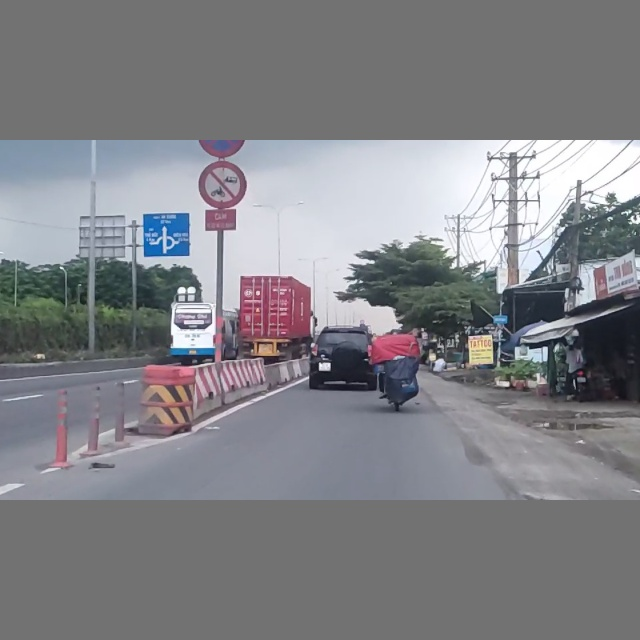P.111: (197, 160, 248, 208)
